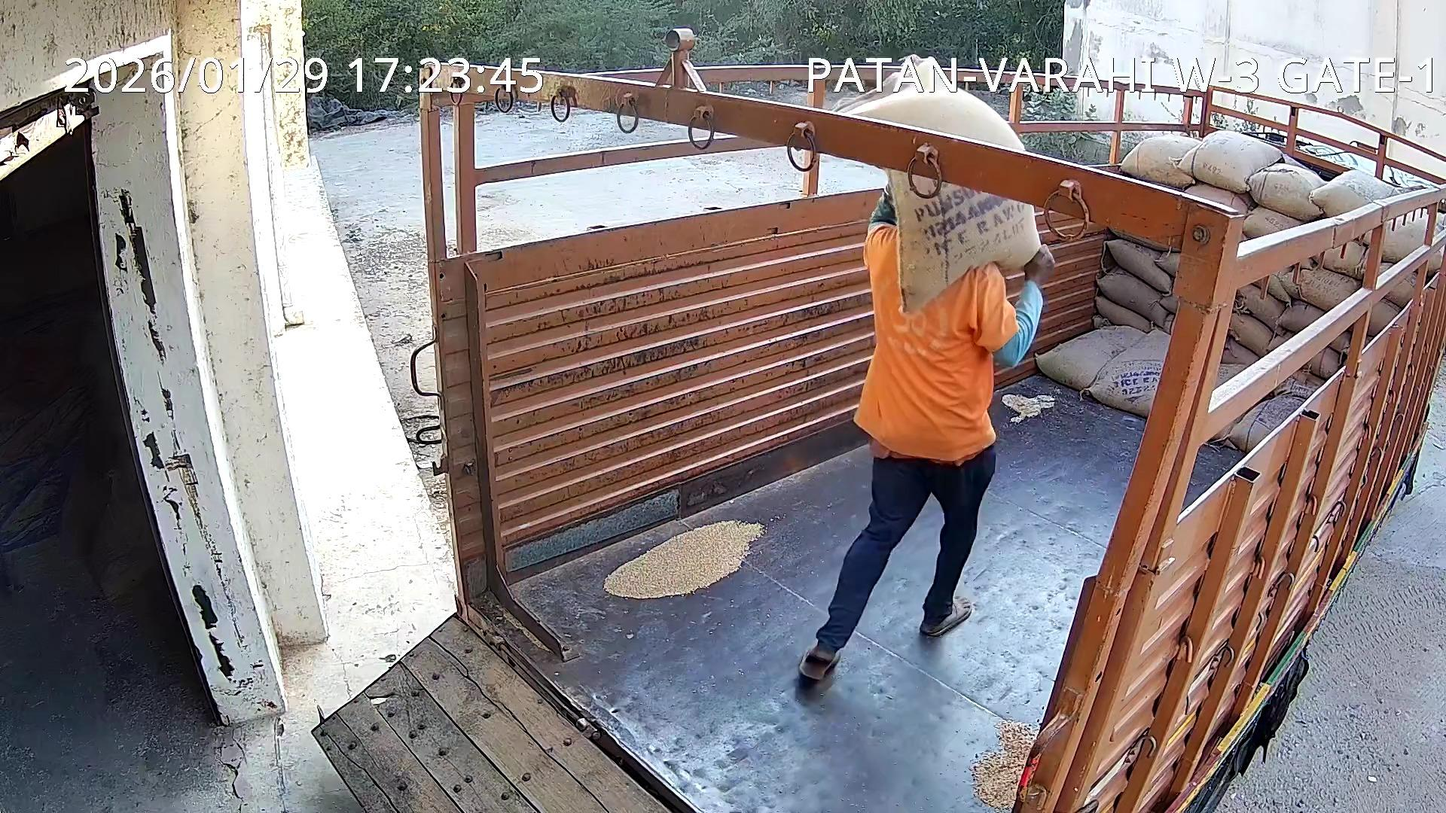Sack: (889, 169, 1039, 314), (848, 58, 1027, 151)
